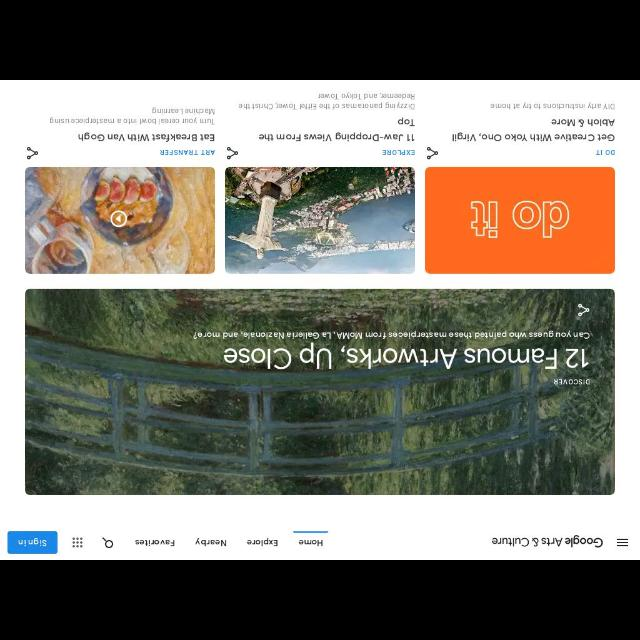icon: (222, 146, 242, 158), (616, 533, 628, 551), (424, 146, 438, 160), (26, 146, 38, 162), (102, 536, 114, 548), (72, 535, 84, 547)
image: (26, 288, 614, 496), (424, 166, 616, 274), (226, 168, 414, 274), (26, 168, 214, 274)
link: (160, 148, 212, 156), (380, 149, 416, 157), (594, 148, 616, 156)
multitab: (127, 527, 329, 555)
text: (256, 118, 414, 142), (451, 119, 615, 141), (237, 92, 416, 110), (47, 106, 215, 125), (491, 534, 604, 550), (76, 132, 214, 142), (486, 101, 616, 111), (192, 536, 228, 548), (135, 538, 177, 548), (246, 537, 280, 547), (296, 538, 324, 546)
textbutton: (7, 531, 58, 553)
